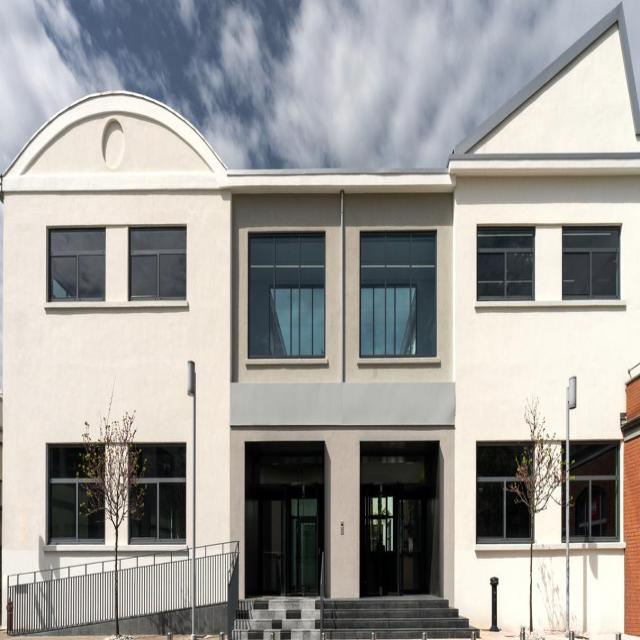door: (248, 490, 322, 593), (361, 493, 431, 596)
railing: (6, 543, 237, 633)
window: (247, 235, 326, 361), (361, 233, 436, 358), (46, 441, 106, 547), (476, 441, 534, 542), (561, 443, 620, 538), (131, 440, 186, 540), (130, 226, 187, 304), (563, 227, 623, 298), (47, 229, 105, 302), (476, 227, 533, 299)
